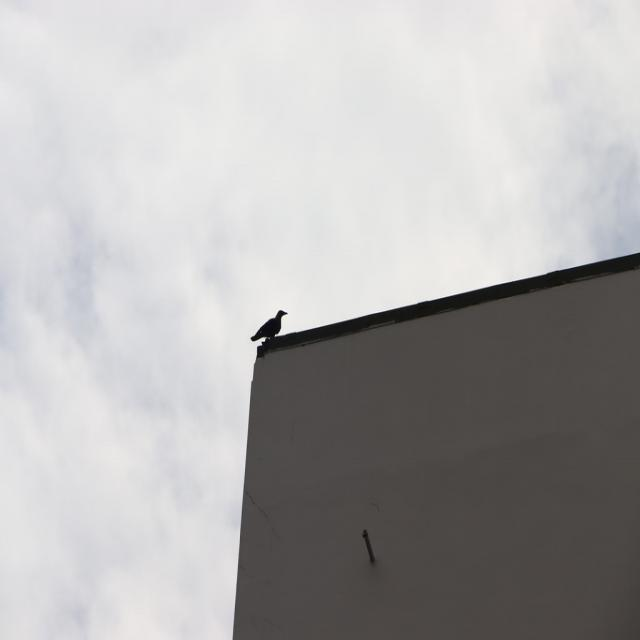bird: (247, 308, 290, 346)
